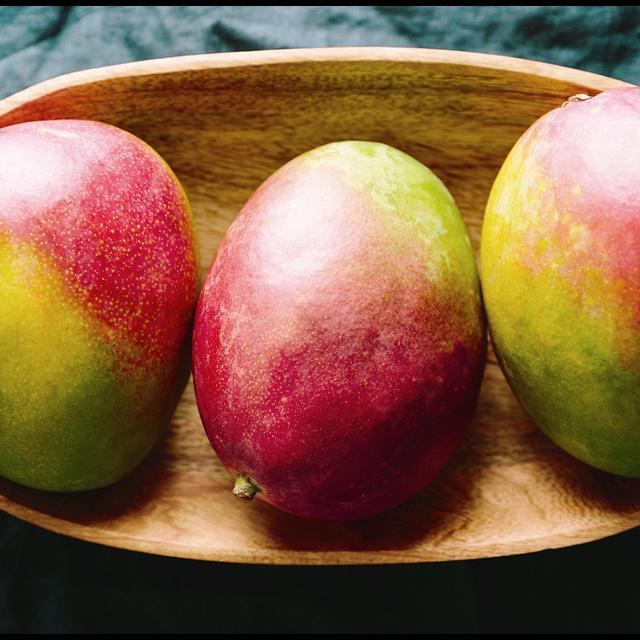mango: (189, 136, 483, 522), (0, 120, 204, 503), (480, 82, 640, 479)
